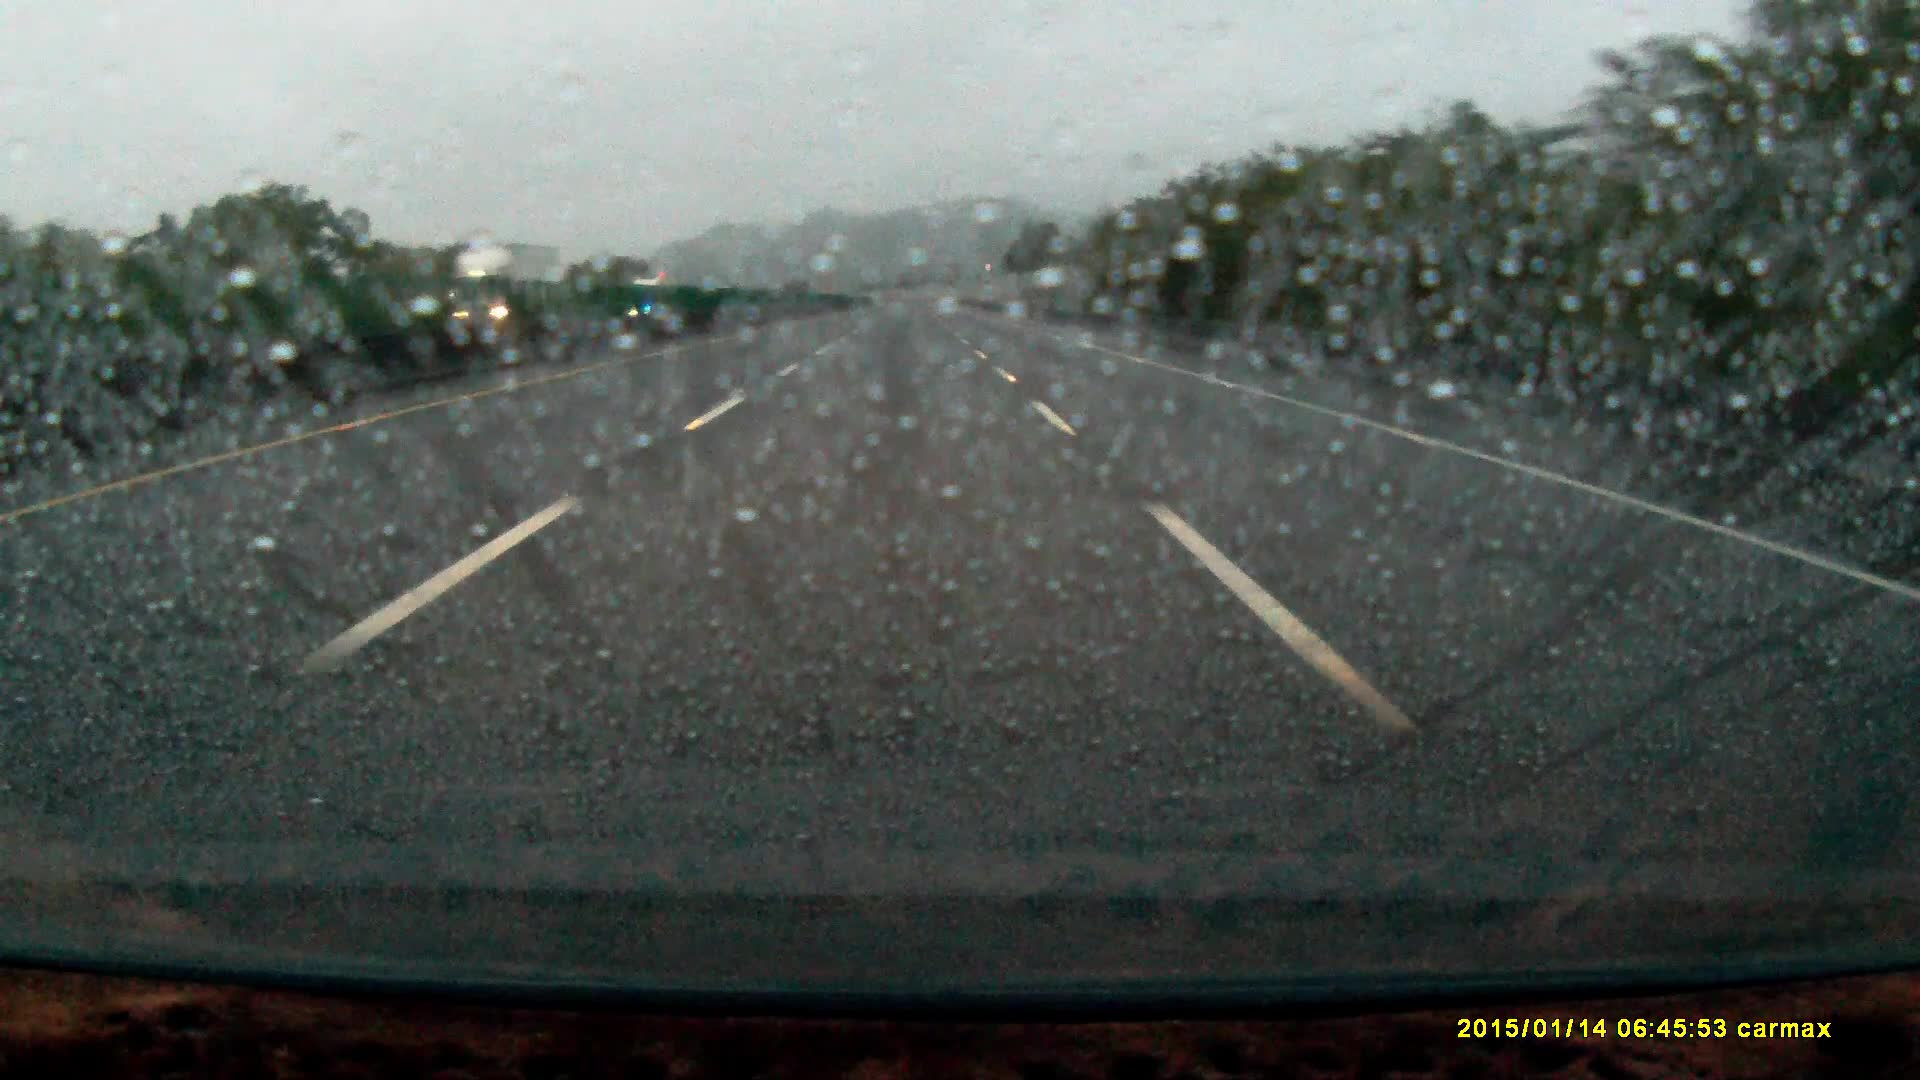vehicle: (448, 243, 579, 347), (636, 278, 684, 314)
